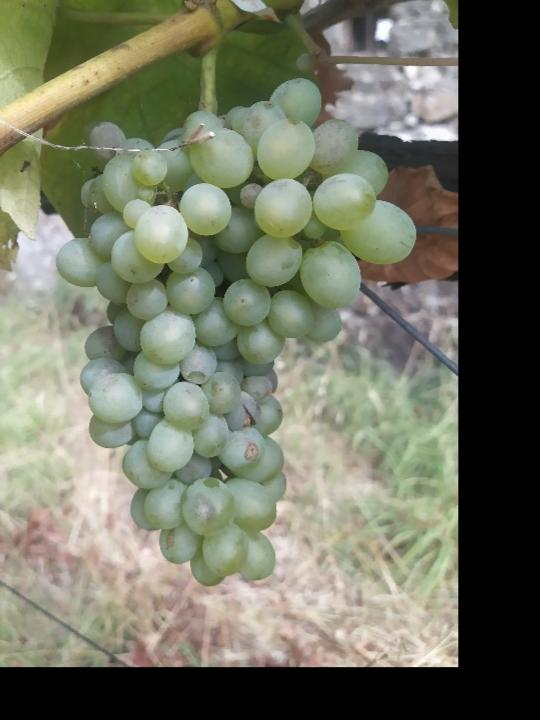grape: (59, 74, 417, 586)
